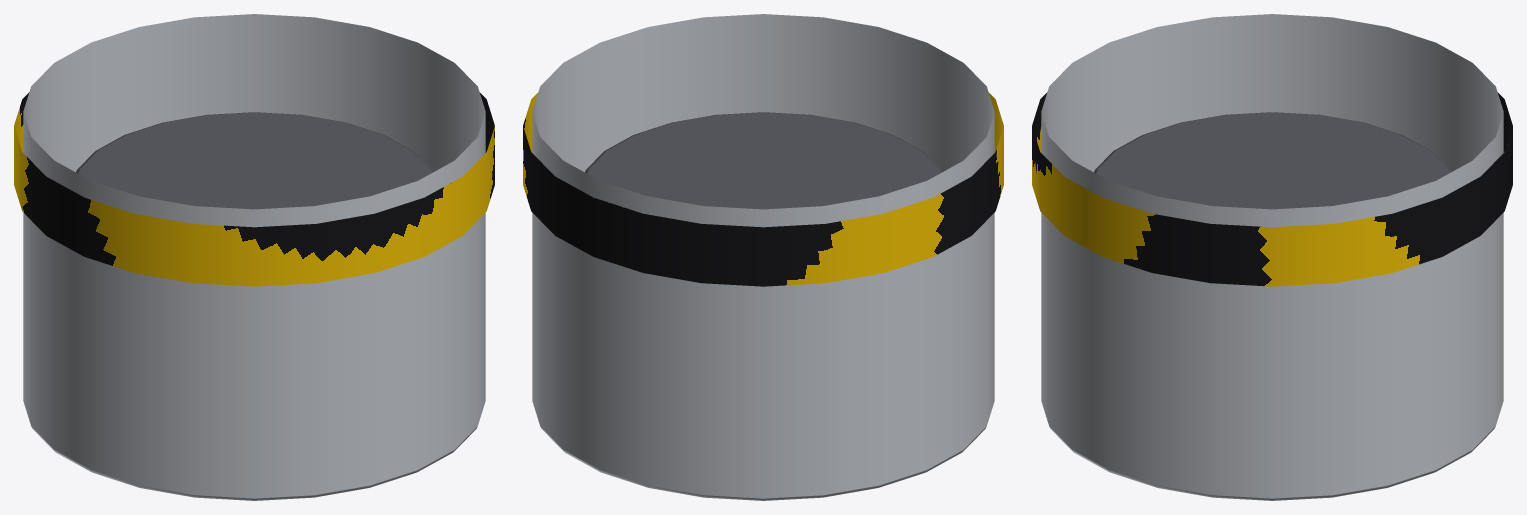
The model's file is rocket_silo_base.glb.
The picture shows the model from 3 angles, left to right: view 1: azimuth 30°, elevation 25°; view 2: azimuth 150°, elevation 25°; view 3: azimuth 270°, elevation 25°; orthographic projection.
Visible parts, largest first — view 1: Body; view 2: Body; view 3: Body.
Part boxes in pixels (x1,y1,x2,y2): Body: (14,14,494,500); Body: (523,14,1003,500); Body: (1032,14,1512,500).
Bounding box in the file's own units: 0.624 × 0.42 × 0.624.
3 materials, 1 textured.
